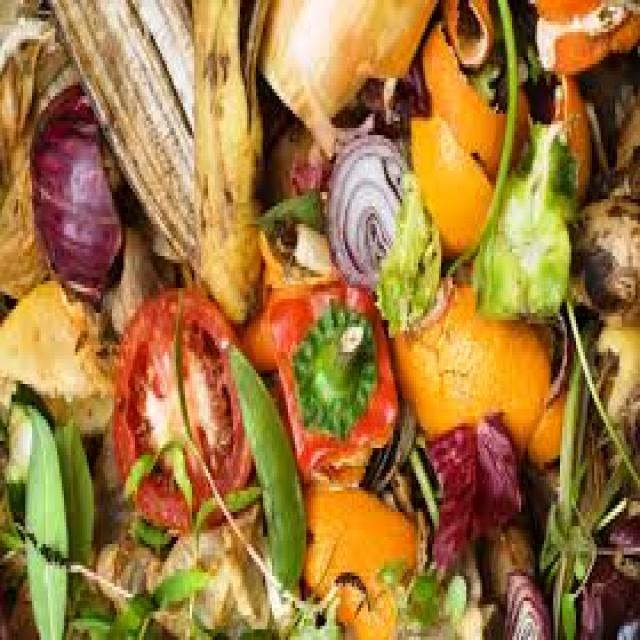Wet: (2, 0, 640, 640), (108, 277, 309, 602), (257, 227, 417, 512), (317, 80, 473, 362), (19, 62, 142, 346)
